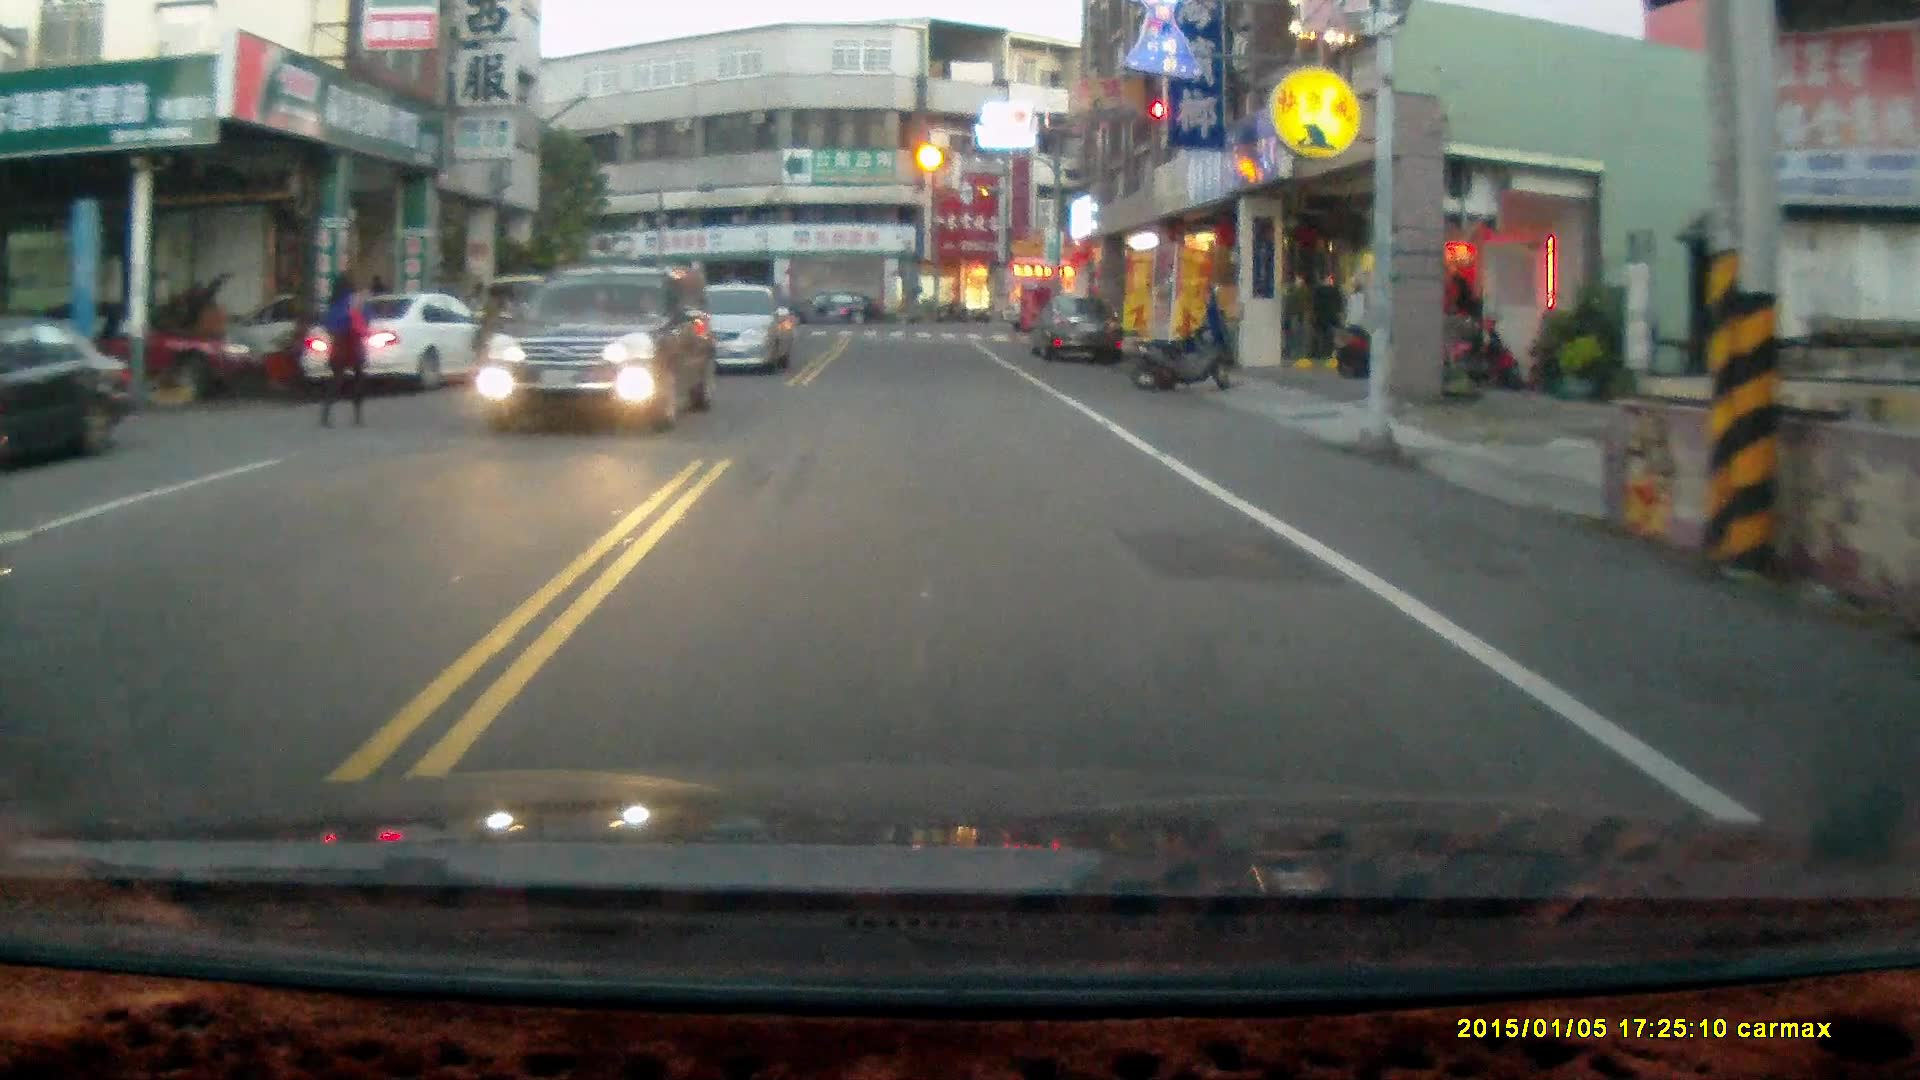pedestrian: (319, 265, 367, 430), (467, 279, 509, 386)
vehicle: (488, 263, 719, 432), (297, 291, 523, 396), (1, 317, 142, 458), (668, 279, 795, 374), (1030, 292, 1129, 369), (785, 289, 889, 330)
